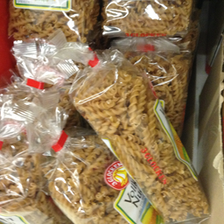pasta: (70, 46, 215, 223), (38, 116, 155, 224)
